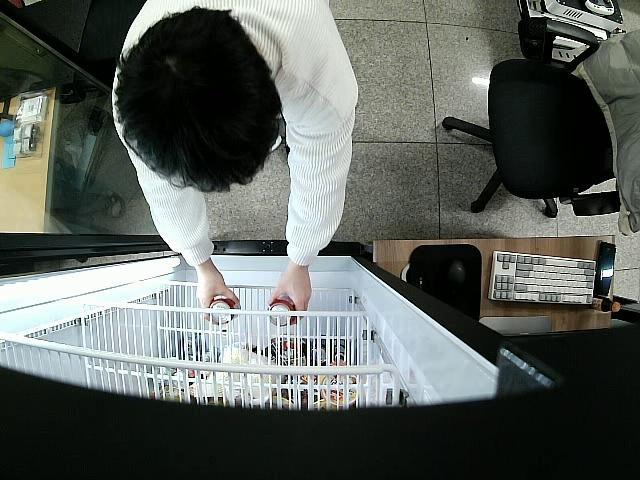11_cocaColaZero: (266, 296, 295, 328), (210, 296, 237, 324)
